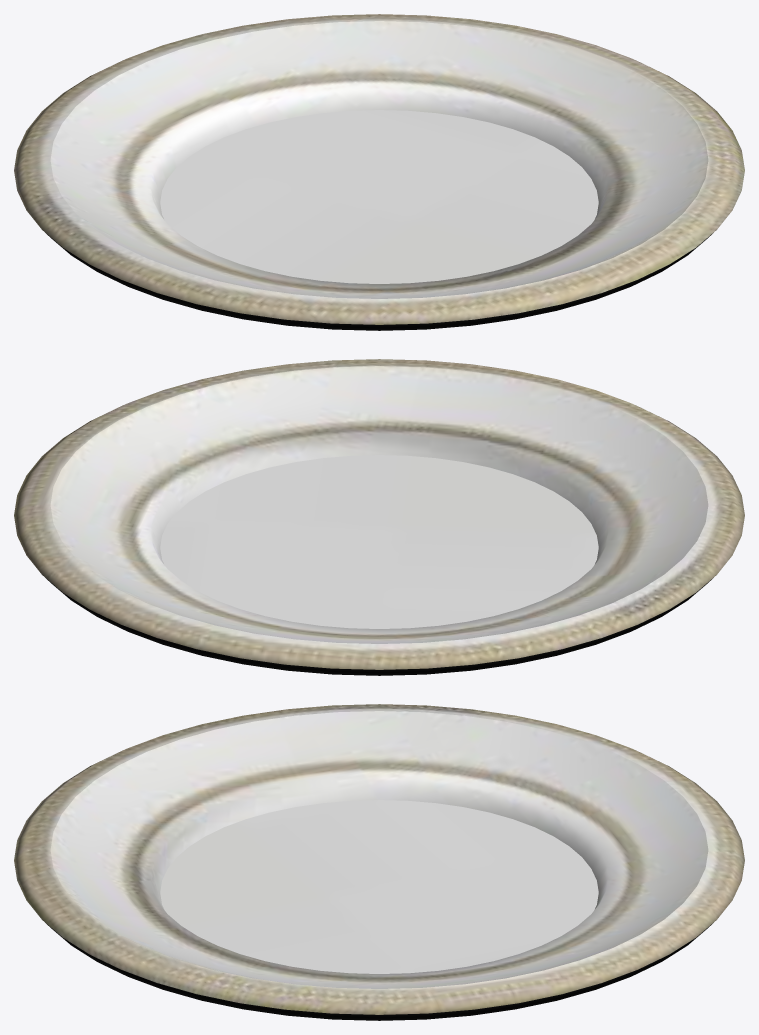
File: Plate.fbx
The picture shows the model from 3 angles, top to bottom: view 1: azimuth 30°, elevation 25°; view 2: azimuth 150°, elevation 25°; view 3: azimuth 270°, elevation 25°; orthographic projection.
Visible parts, largest first — view 1: top, base; view 2: top, base; view 3: top, base.
Part boxes in pixels (x1,y1,x2,y2): top: (50, 21, 708, 298); base: (14, 14, 744, 330); top: (50, 366, 708, 643); base: (14, 359, 744, 675); top: (50, 711, 708, 988); base: (14, 704, 744, 1020).
Size of the model in its own units: 0.8465 by 0.0814 by 0.8465.
